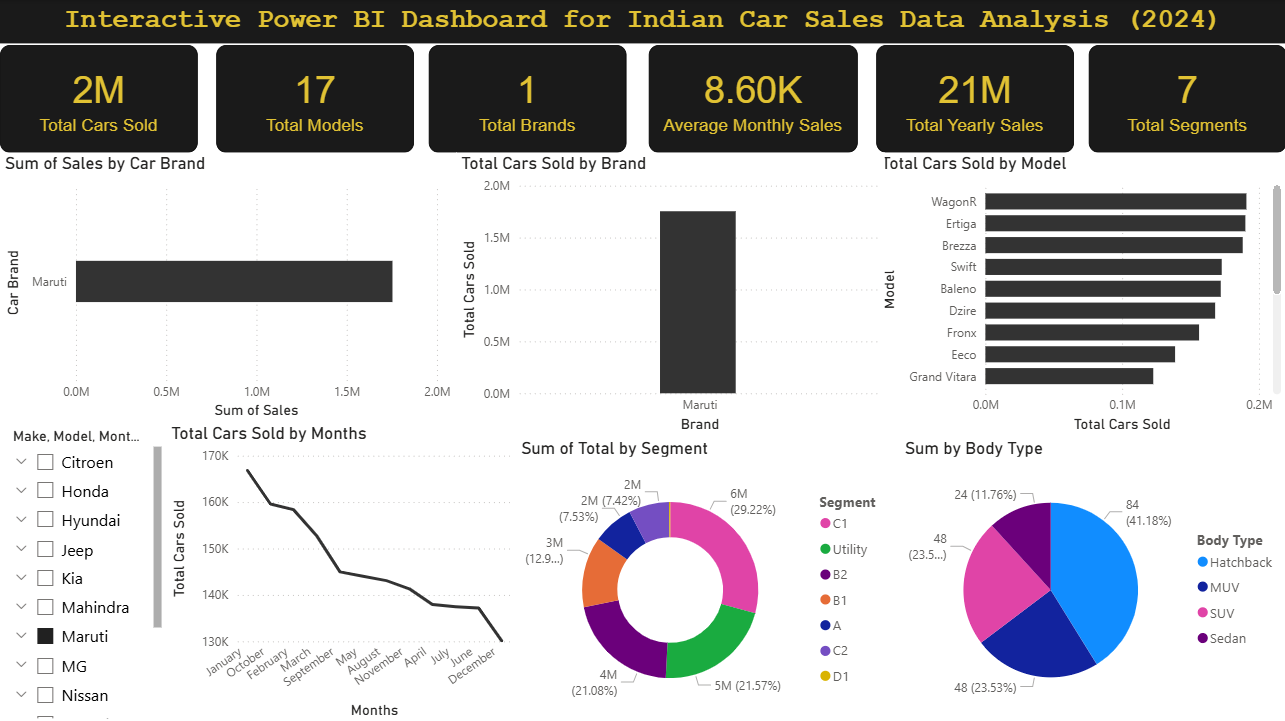

This screenshot's page, from the dashboard's own definition file:
{"tool":"powerbi","page":{"name":"Page 1","canvas":[1280,720],"ordinal":0},"visuals":[{"type":"card","fields":{"Values":["Sheet1.Total Cars Sold"]},"box":[0,44.8,196.5,107],"z":0},{"type":"card","fields":{"Values":["Sheet1.Total Models"]},"box":[215.2,44.8,196.5,107],"z":1},{"type":"card","fields":{"Values":["Sheet1.Total Brands"]},"box":[426.7,44.8,196.5,107],"z":2},{"type":"card","fields":{"Values":["Car Sales.Average Monthly Sales"]},"box":[645.6,44.8,207.7,107],"z":3},{"type":"card","fields":{"Values":["Car Sales.Total Yearly Sales"]},"box":[872,44.8,196.5,107],"z":4},{"type":"card","fields":{"Values":["Car Sales.Total Segments"]},"box":[1083.4,44.8,196.5,107],"z":5},{"type":"clusteredBarChart","fields":{"Category":["Car Sales.Make"],"Y":["Sum(Car Sales.Sales)"]},"box":[0,151.8,454,269.9],"z":6},{"type":"pieChart","fields":{"Category":["Car Sales.Body Type"],"Y":["CountNonNull(Car Sales.Total)"]},"box":[895.7,435.4,384.4,284.9],"z":7},{"type":"donutChart","fields":{"Category":["Car Sales.Segment"],"Y":["Sum(Car Sales.Total)"]},"box":[513.8,435.4,381.9,284.9],"z":8},{"type":"barChart","fields":{"Category":["Car Sales.Model"],"Y":["Car Sales.Total Cars Sold"]},"box":[872,151.8,408,283.6],"z":10},{"type":"slicer","fields":{"Values":["Car Sales.Make","Car Sales.Model","Car Sales.Months","Car Sales.Body Type","Car Sales.Segment"]},"box":[0,420.5,165.4,299.8],"z":11},{"type":"lineChart","fields":{"Y":["Car Sales.Total Cars Sold"],"Category":["Car Sales.Months"]},"box":[165.4,420.5,348.3,299.8],"z":12},{"type":"lineClusteredColumnComboChart","fields":{"Y":["Car Sales.Total Cars Sold"],"Category":["Car Sales.Make"]},"box":[454,151.8,426.7,283.6],"z":13},{"type":"textbox","box":[0,0,1280,43.5],"z":14}]}

Visuals, with their boxes in screenshot pixels (x1, y1, x2, y2), scaled from the page's 1280x720 canvas onto the 1285x721 screenshot:
card - Sheet1.Total Cars Sold: [0,45,197,152]
card - Sheet1.Total Models: [216,45,413,152]
card - Sheet1.Total Brands: [428,45,626,152]
card - Car Sales.Average Monthly Sales: [648,45,857,152]
card - Car Sales.Total Yearly Sales: [875,45,1073,152]
card - Car Sales.Total Segments: [1088,45,1284,152]
clusteredBarChart - Car Sales.Make x Sum(Car Sales.Sales): [0,152,456,422]
pieChart - Car Sales.Body Type x CountNonNull(Car Sales.Total): [899,436,1284,720]
donutChart - Car Sales.Segment x Sum(Car Sales.Total): [516,436,899,720]
barChart - Car Sales.Model x Car Sales.Total Cars Sold: [875,152,1284,436]
slicer - Car Sales.Make x Car Sales.Model: [0,421,166,720]
lineChart - Car Sales.Total Cars Sold x Car Sales.Months: [166,421,516,720]
lineClusteredColumnComboChart - Car Sales.Total Cars Sold x Car Sales.Make: [456,152,884,436]
textbox: [0,0,1284,44]
